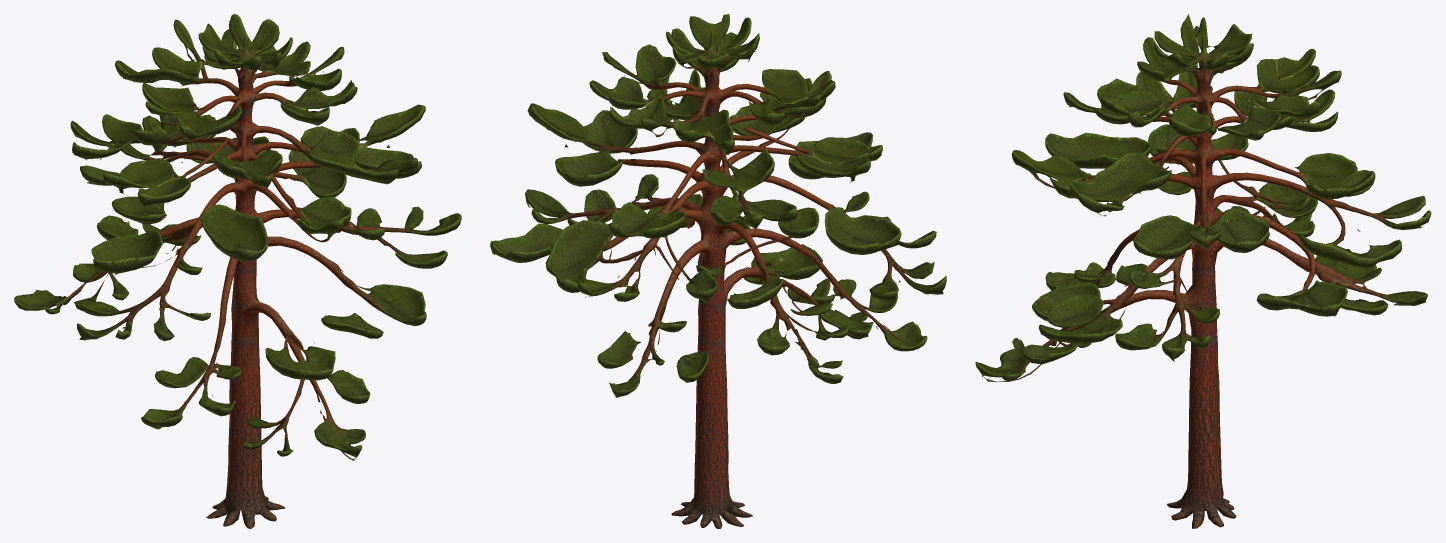
File: woodland_tree_03.glb
The picture shows the model from 3 angles, left to right: view 1: azimuth 30°, elevation 25°; view 2: azimuth 150°, elevation 25°; view 3: azimuth 270°, elevation 25°; orthographic projection.
Visible parts, largest first — view 1: tripo_node_efadfb40-2c89-4cb4-b563-7e82b8094a0e; view 2: tripo_node_efadfb40-2c89-4cb4-b563-7e82b8094a0e; view 3: tripo_node_efadfb40-2c89-4cb4-b563-7e82b8094a0e.
Boxes of the visible parts, x1,y1,x2,y2 form: tripo_node_efadfb40-2c89-4cb4-b563-7e82b8094a0e: [14, 14, 461, 528]; tripo_node_efadfb40-2c89-4cb4-b563-7e82b8094a0e: [490, 14, 946, 528]; tripo_node_efadfb40-2c89-4cb4-b563-7e82b8094a0e: [975, 14, 1431, 528].
Bounding box in the file's own units: 0.8576 × 0.9906 × 0.8538.
Materials: 1 (1 with a texture image).
